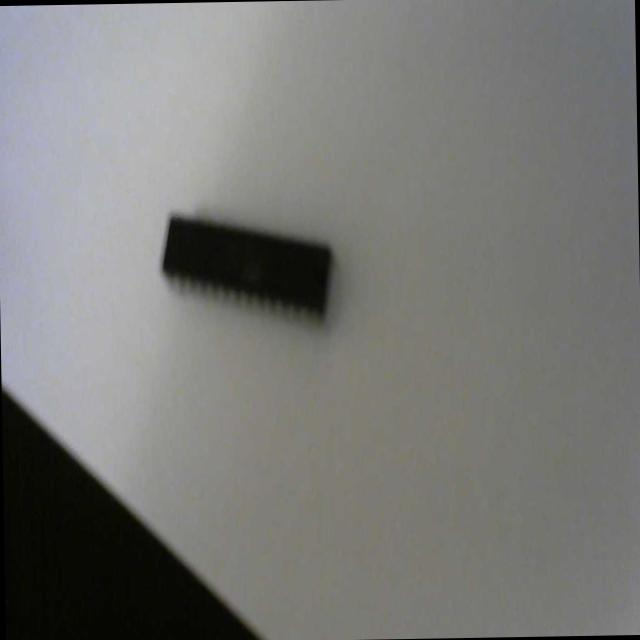atmega: (157, 202, 336, 332)
